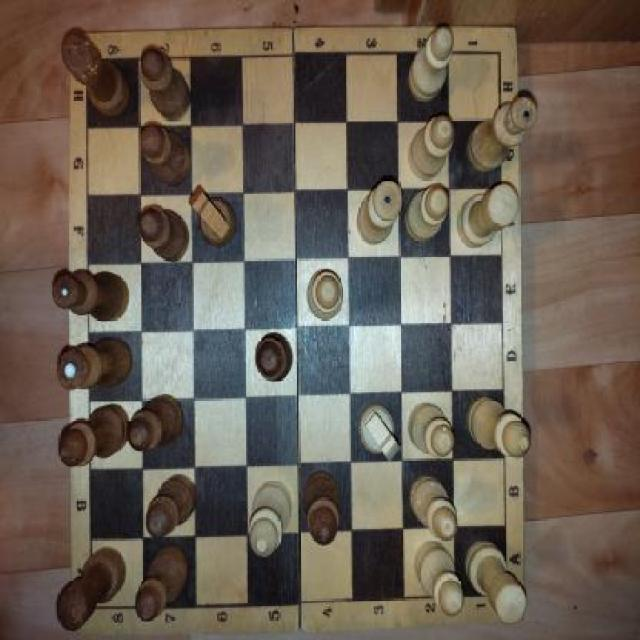chess-table-corners: (67, 29, 115, 94), (68, 574, 118, 634), (480, 559, 526, 621), (474, 25, 517, 87)
